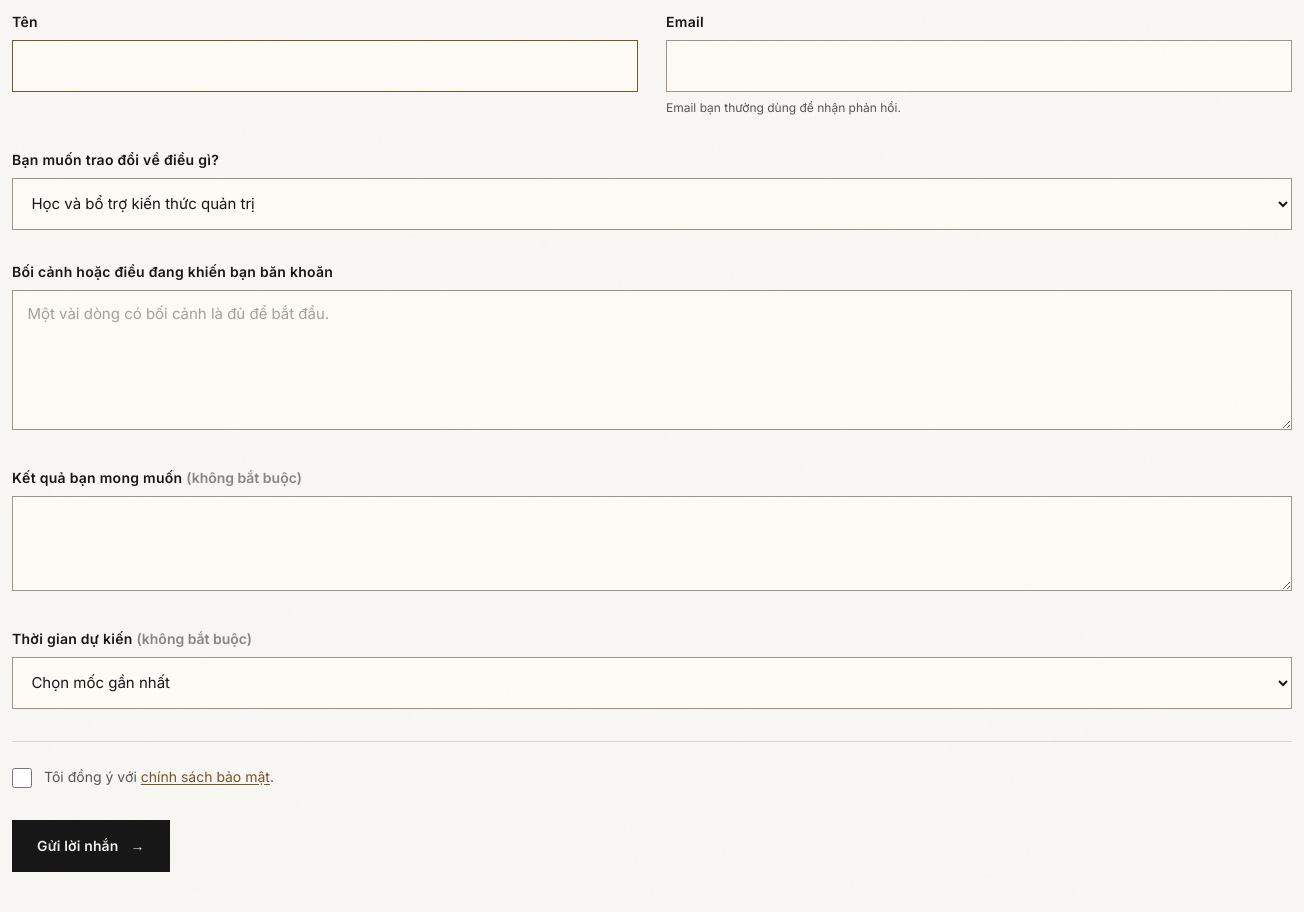
Scenario: ContactForm › submits the direct context and shows a clear confirmation
In the field labelled "Tên": [325, 66] box [12,40,638,92], type "Nguyễn Văn A"
In the field labelled "Email": [979, 66] box [666,40,1292,92], type "a@example.com"
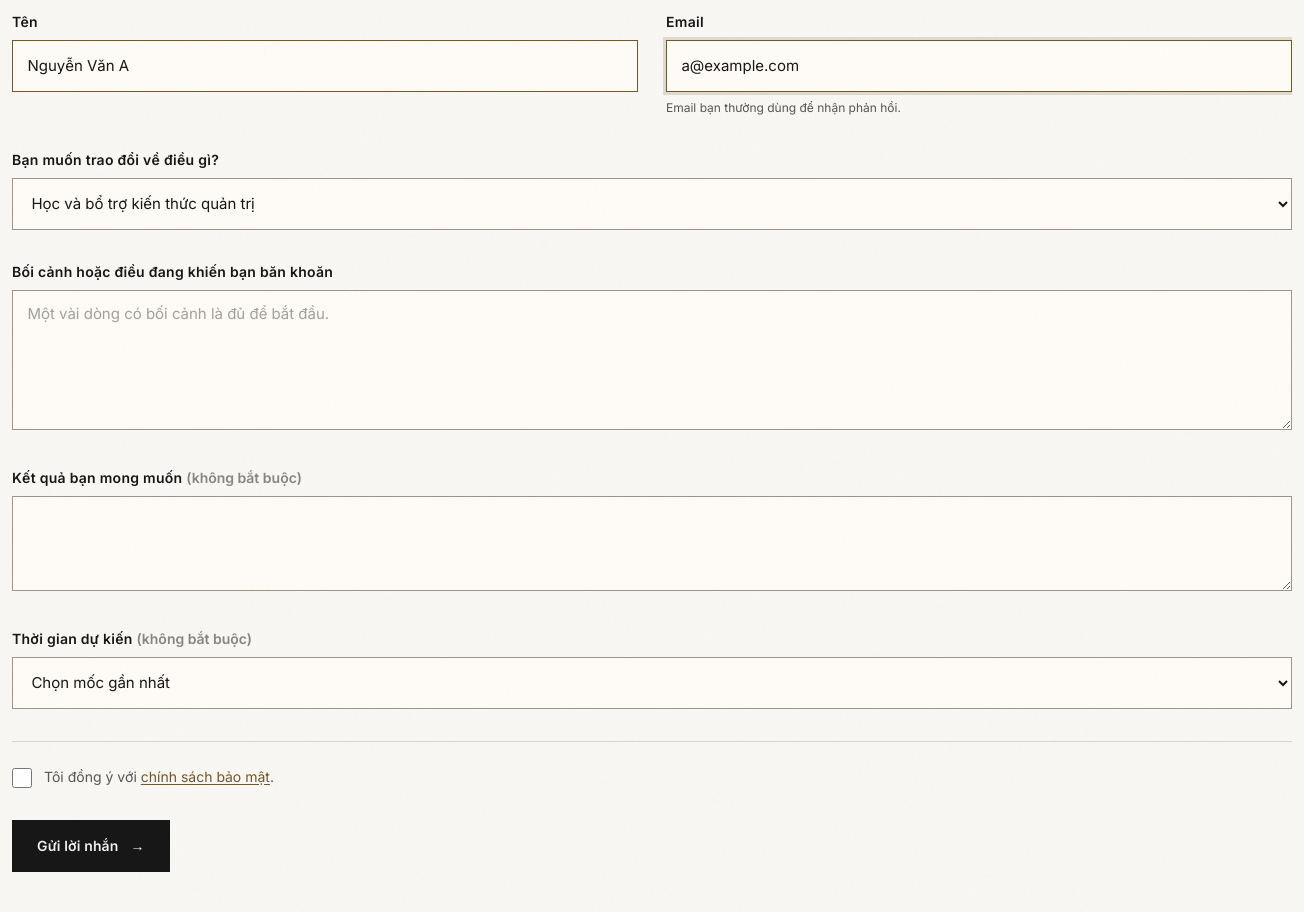
In the text box labelled "Bối cảnh hoặc điều đang khiến bạn băn khoăn": [652, 360] box [12,290,1292,430], type "Tôi muốn trao đổi về một lớp học."
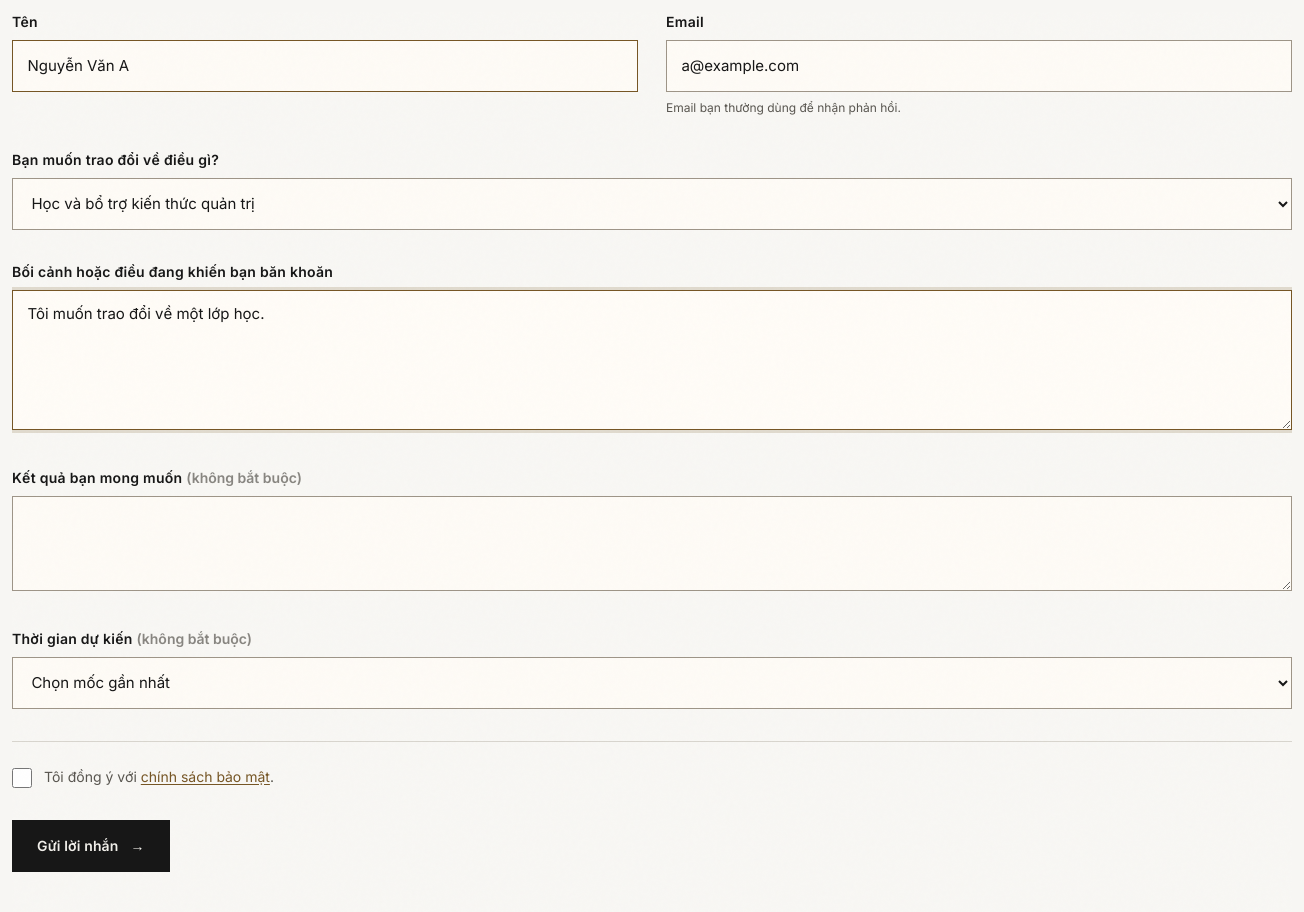
In the text box labelled "Kết quả bạn mong muốn (không bắt buộc)": [652, 543] box [12,496,1292,591], type "Hiểu rõ bước tiếp theo."
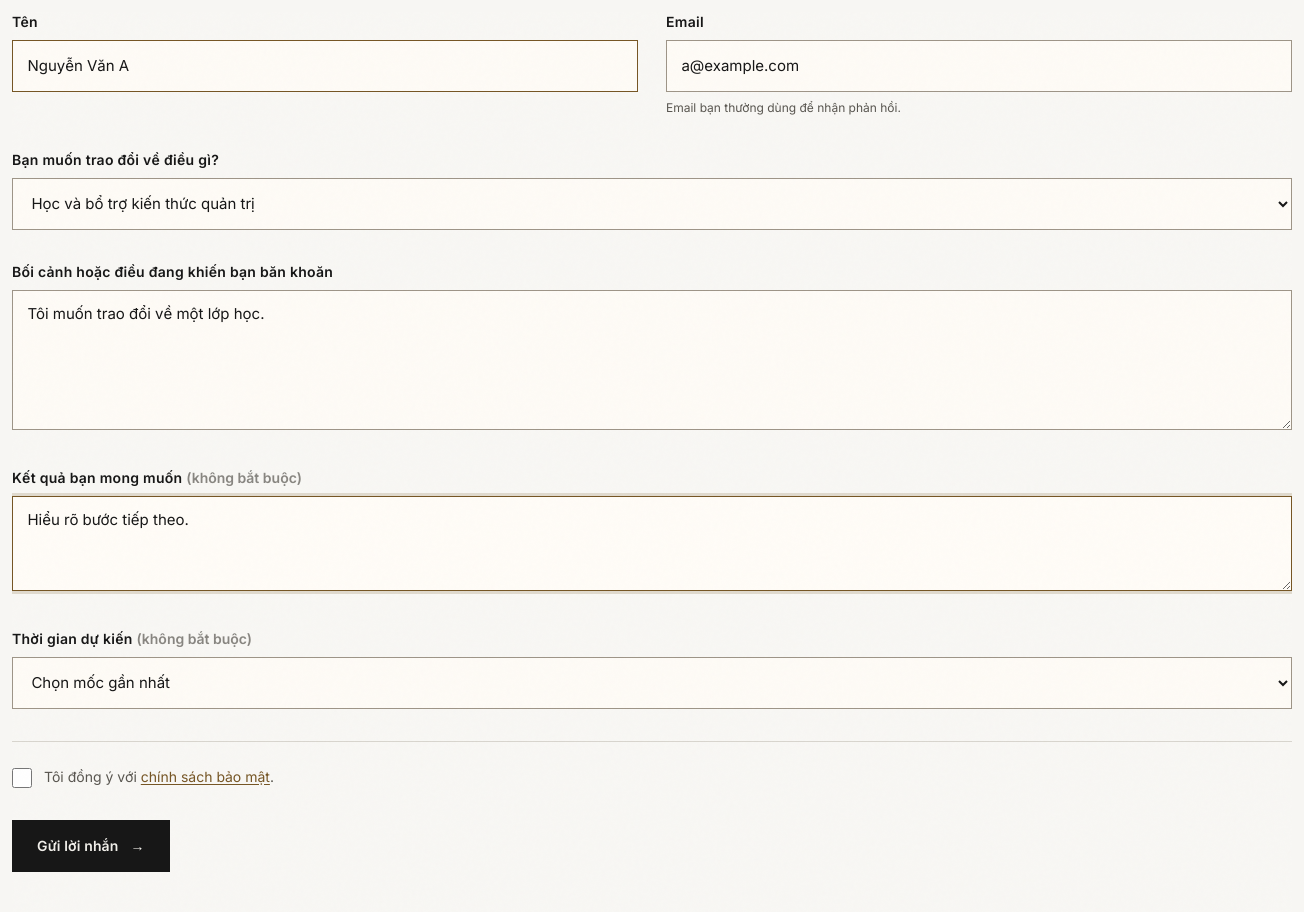
Select "Trong 1–3 tháng tới" in the dropdown labelled "Thời gian dự kiến (không bắt buộc)": [652, 683] box [12,657,1292,709]
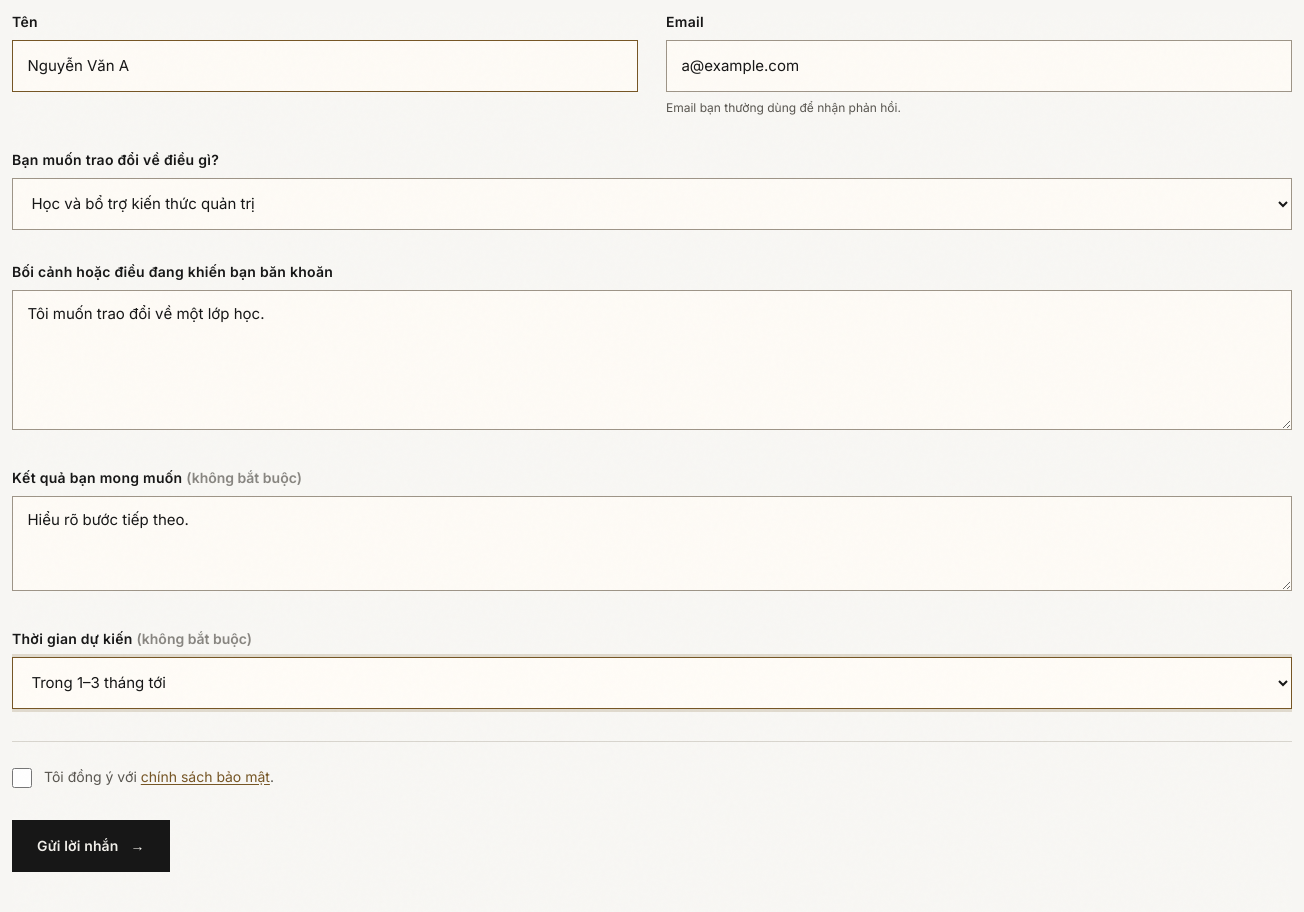
Click the checkbox: [22, 778] box [12,768,32,788]
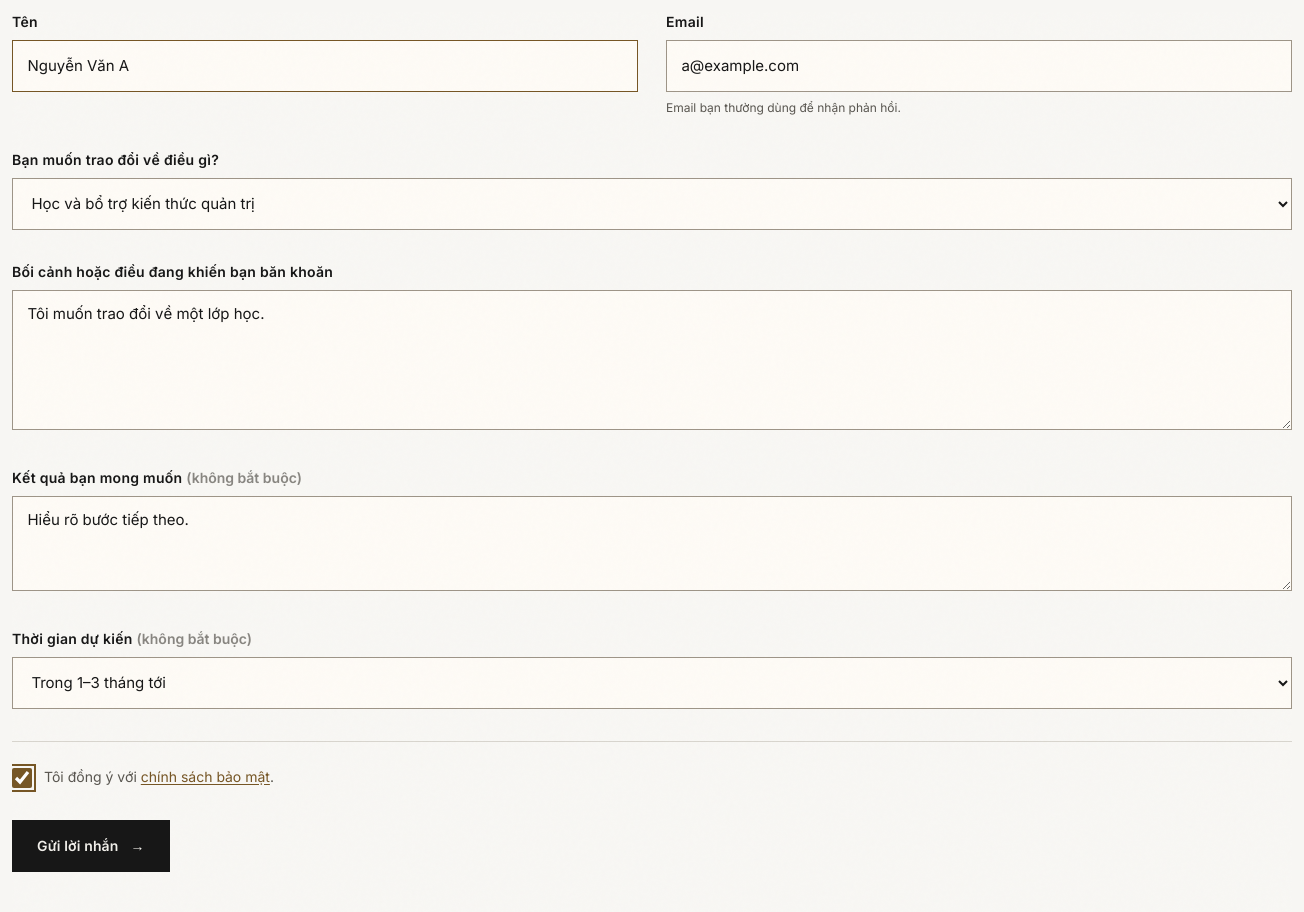
Click the button "Gửi lời nhắn →": [91, 846] box [12,820,170,872]
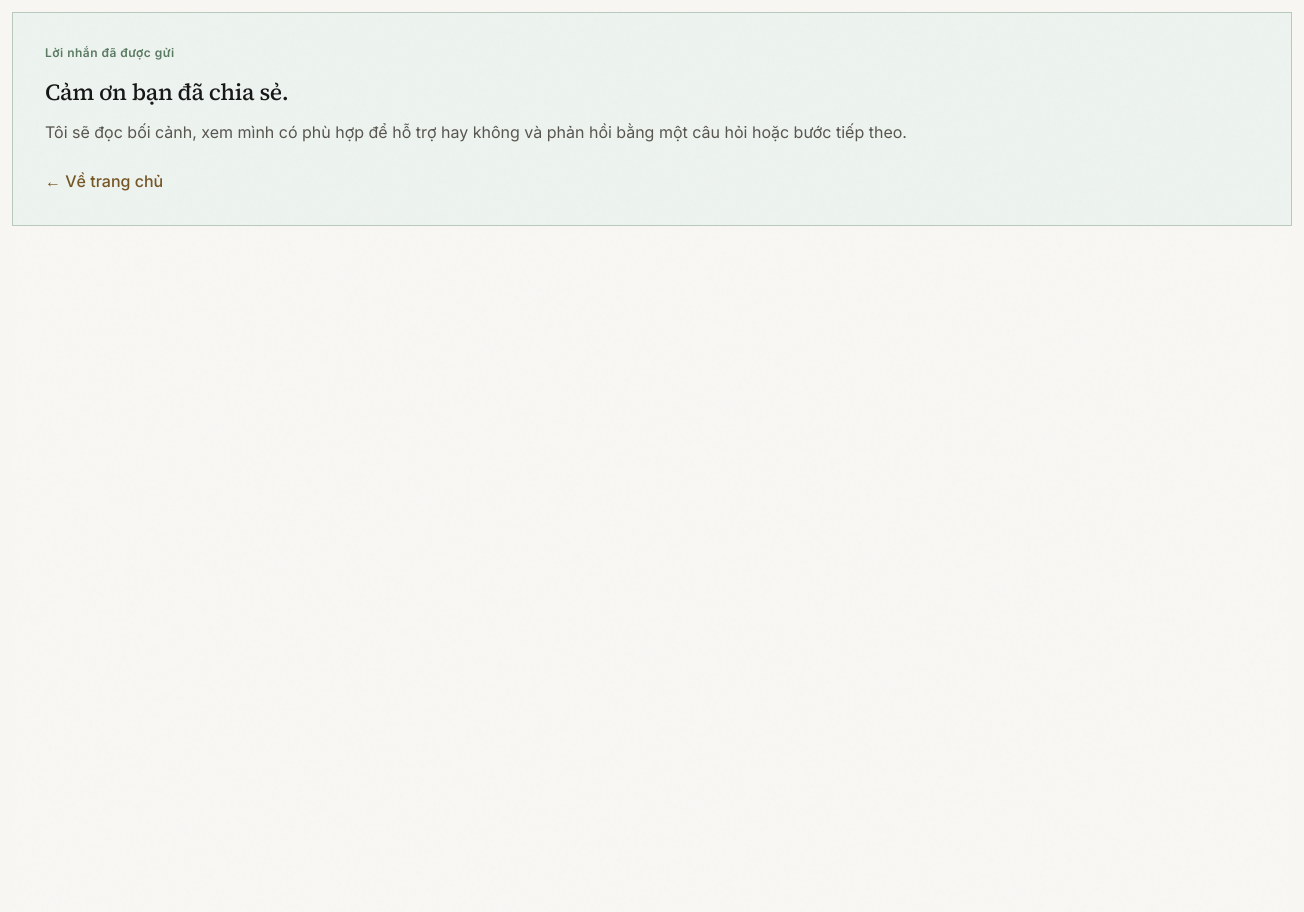
Expected: the text "Cảm ơn bạn đã chia sẻ." is shown, [45,76,288,108]
